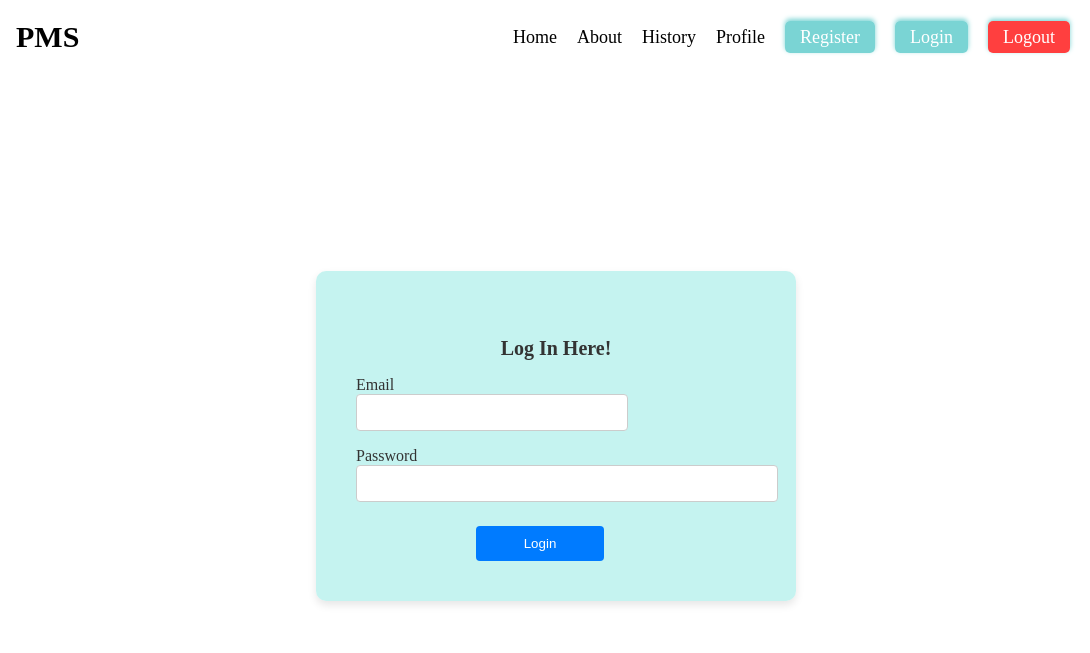
Test case: Requests without hitting the backend › should handle login post request
Click the button with class "loginbtn". click: (540, 545)
box: [476,527,604,562]
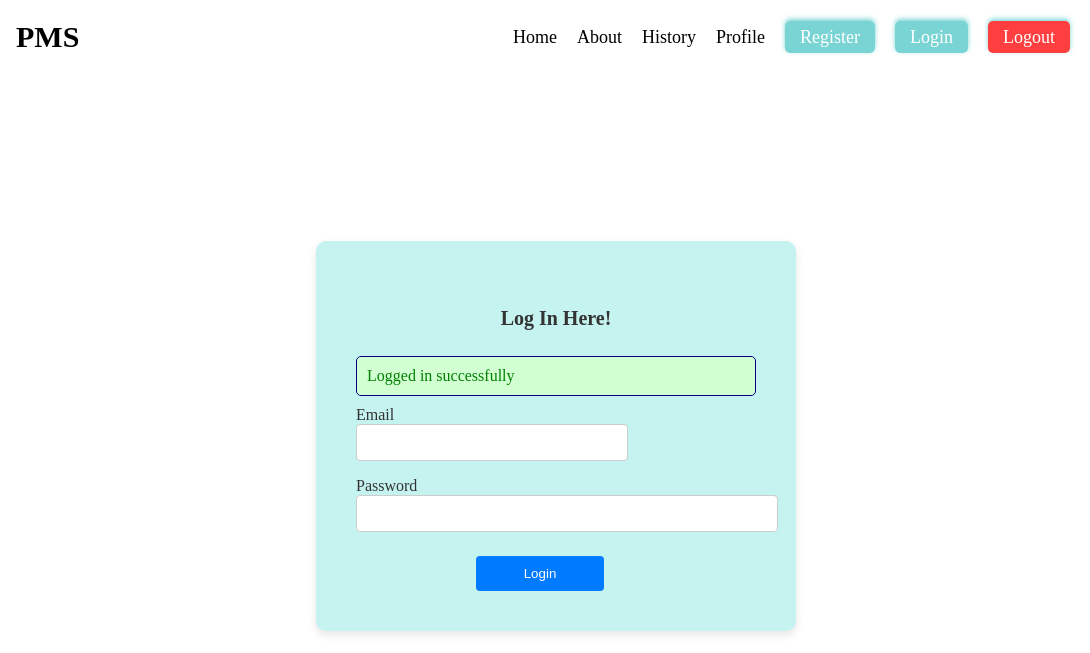
Now the text with class "success" reads "Logged in successfully", box [367,367,515,384]
